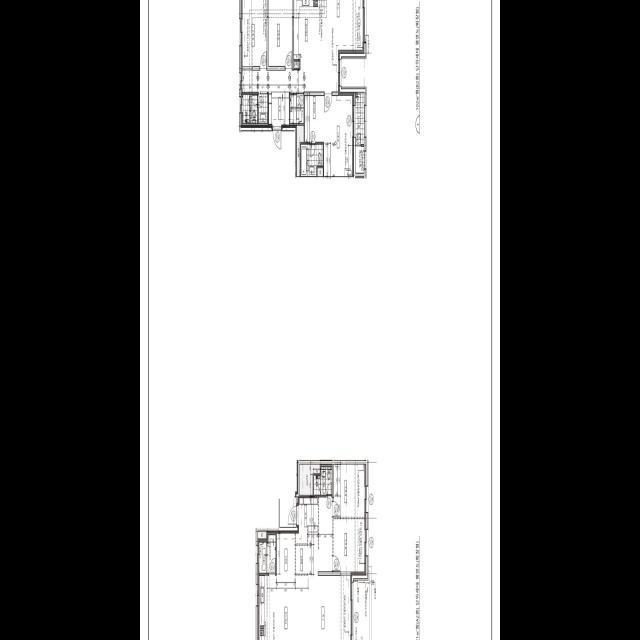background: (140, 0, 500, 640)
space_balconi: (356, 92, 364, 144)
space_bedroom: (324, 92, 354, 176), (334, 517, 366, 574), (241, 0, 267, 67), (334, 464, 366, 517), (269, 0, 292, 66)
space_dressroom: (305, 95, 324, 141)
space_front: (296, 497, 318, 543), (269, 91, 289, 128)
space_kitchen: (258, 530, 296, 640), (294, 0, 320, 59)
space_living_room: (241, 0, 364, 91), (296, 497, 352, 640)
space_multipurpose_space: (258, 534, 276, 572)
space_other: (300, 464, 320, 495), (290, 95, 304, 123), (297, 125, 304, 176), (296, 545, 308, 573), (258, 530, 266, 539), (318, 167, 323, 176), (294, 61, 299, 67)
space_outdoor_room: (356, 146, 364, 172)
space_toilet: (301, 144, 323, 176), (243, 94, 267, 123), (314, 466, 332, 494)
